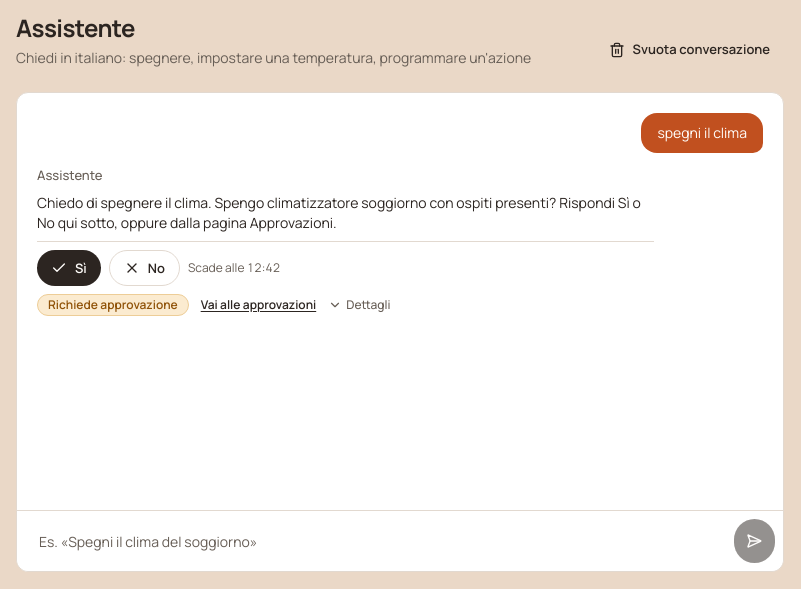
Test: Assistente: conferma nella chat con ospiti presenti (D-154) › «No»: «Respinto»
Click the button with test id "ask-confirm-no-ask-0007" at (144,268), box x1=109 y1=250 x2=180 y2=286
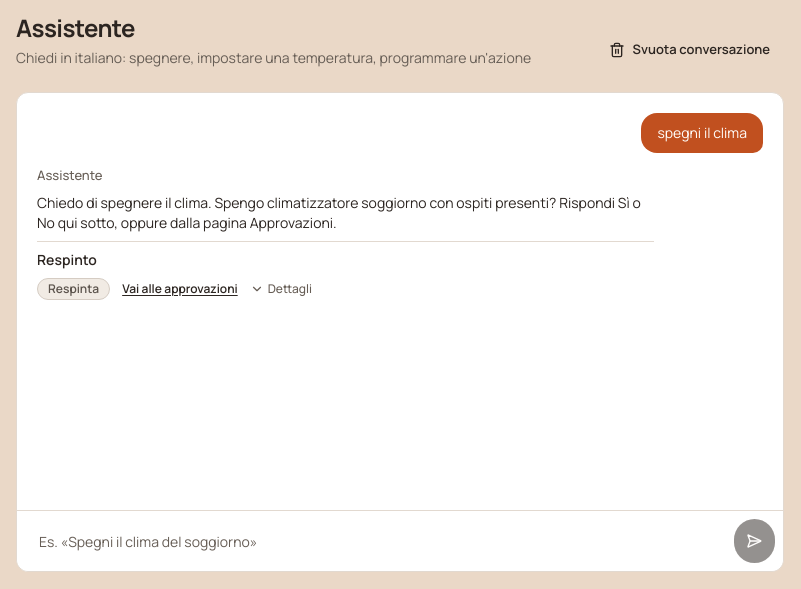
Expected: the text with test id "ask-confirm-result-ask-0007" reads "Respinto", x1=37 y1=250 x2=97 y2=269
